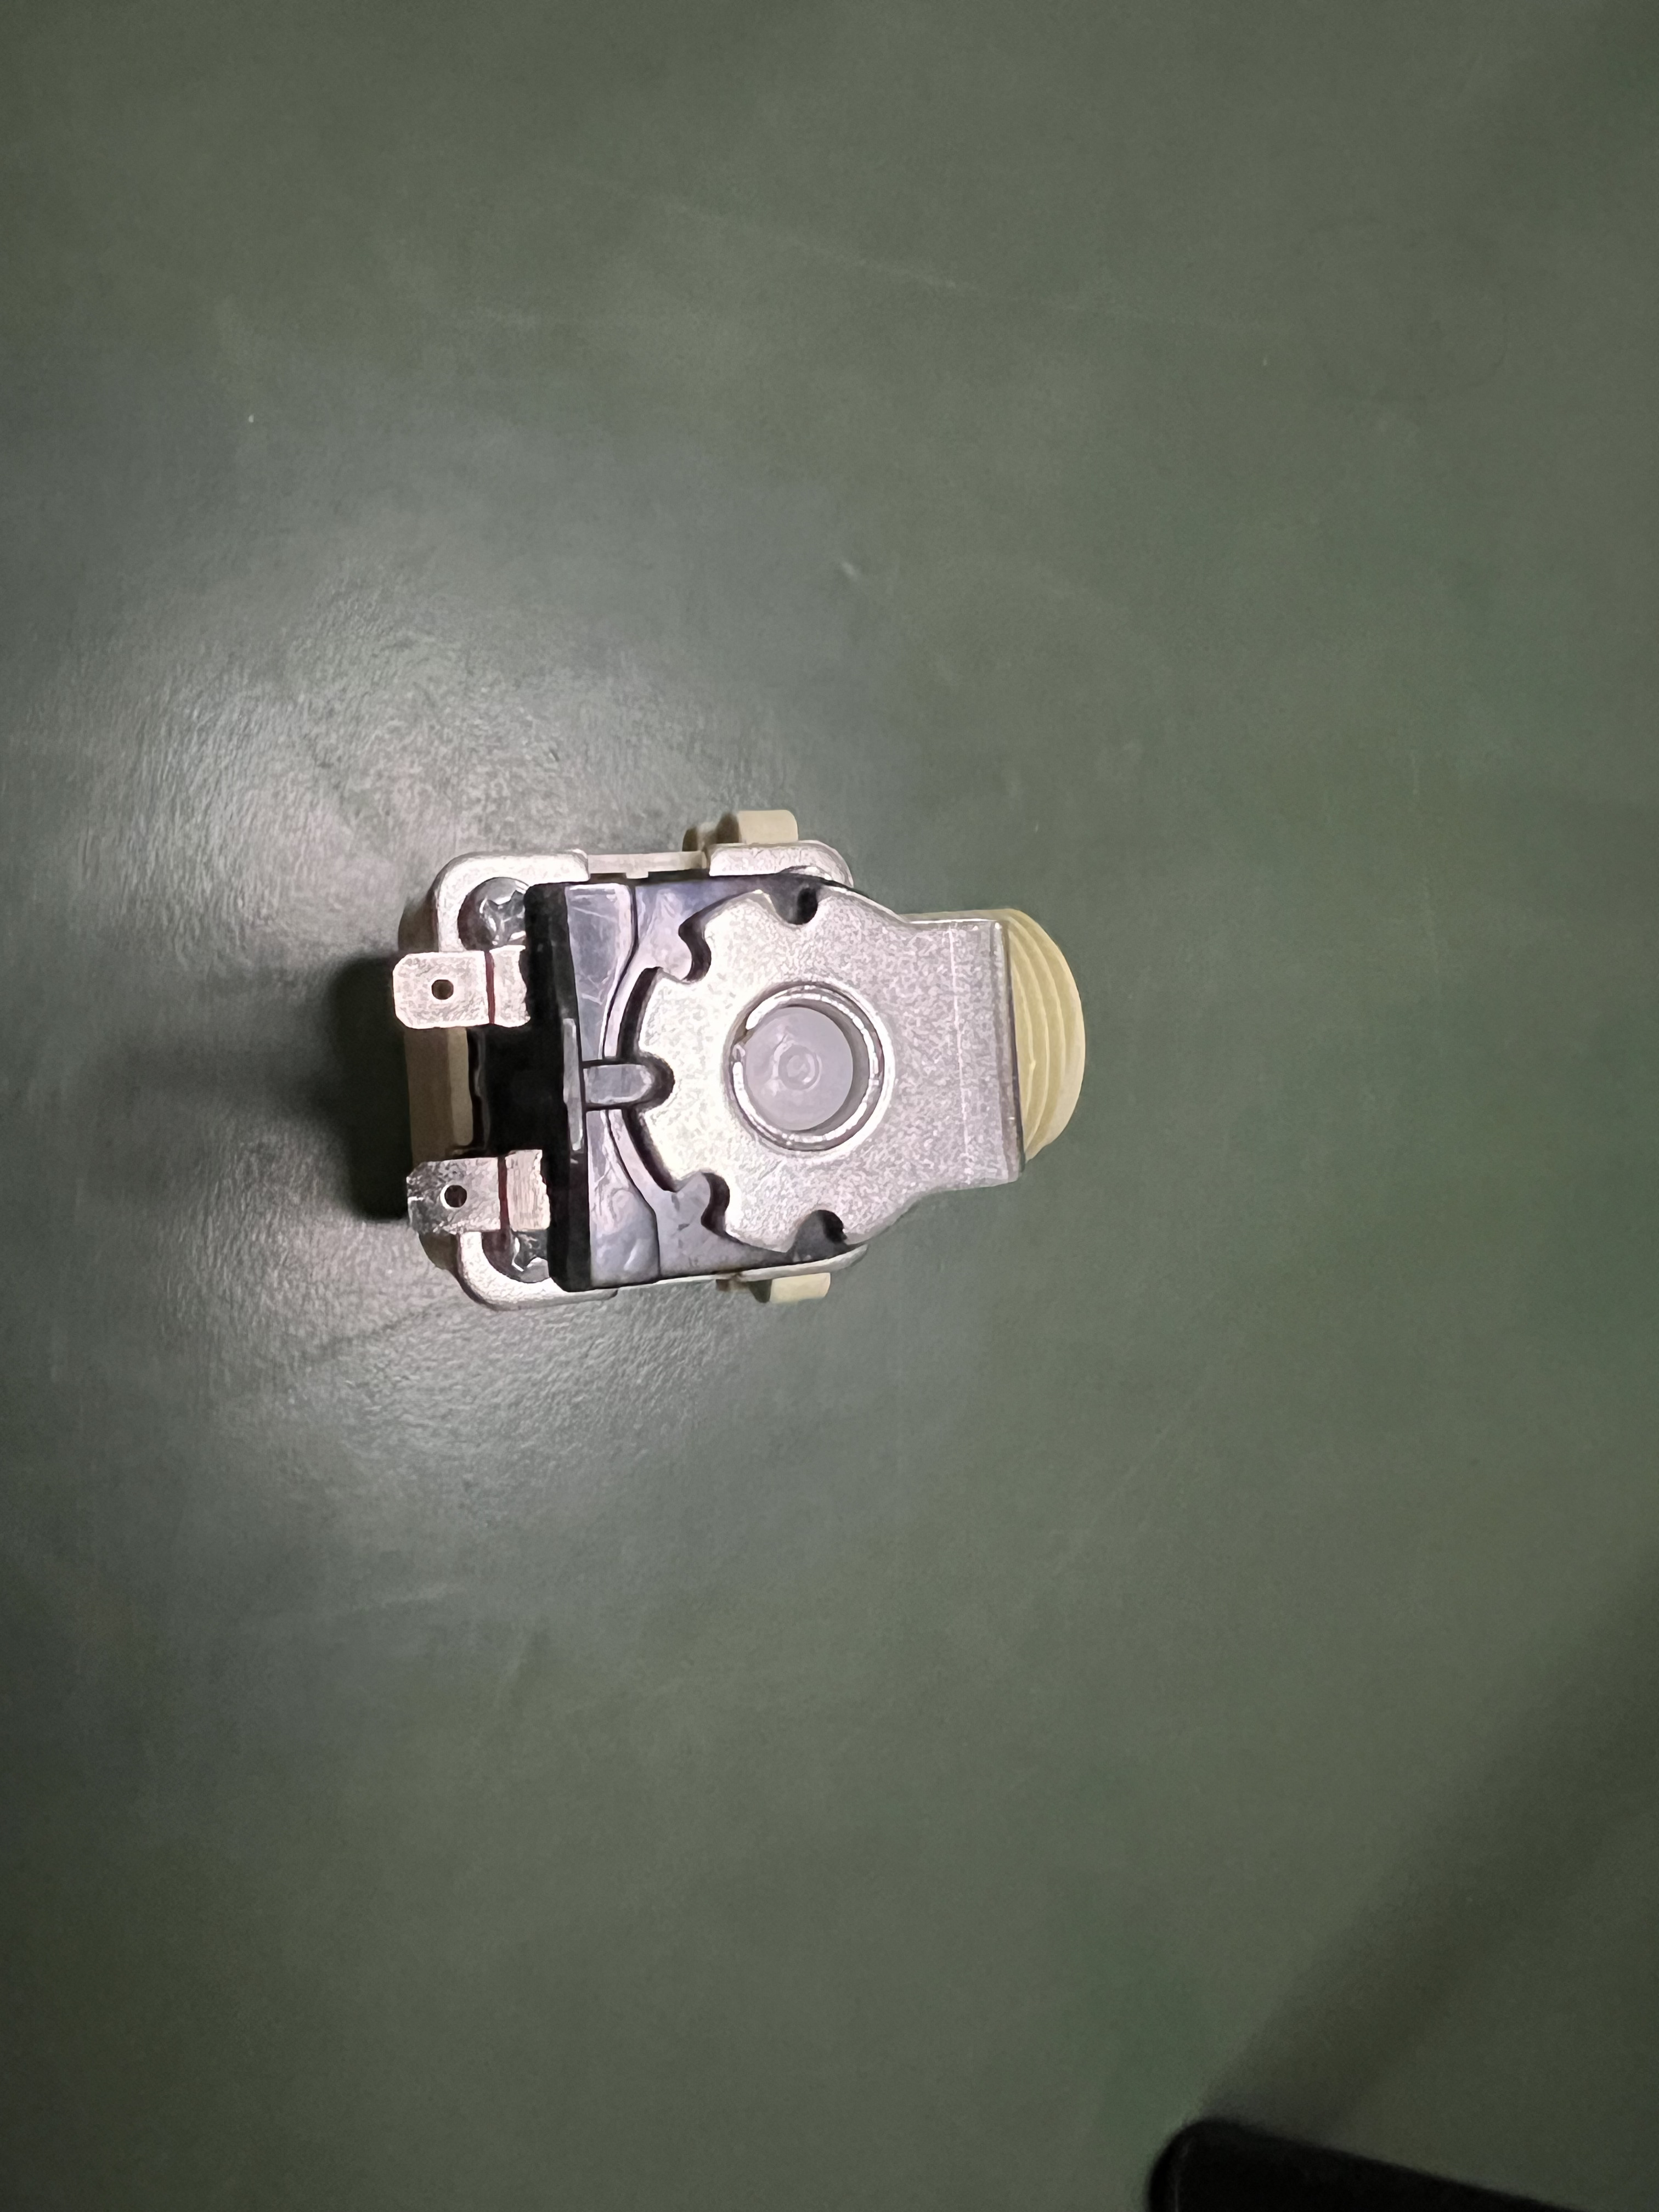godrej_inlet_valves: (356, 796, 1121, 1334)
